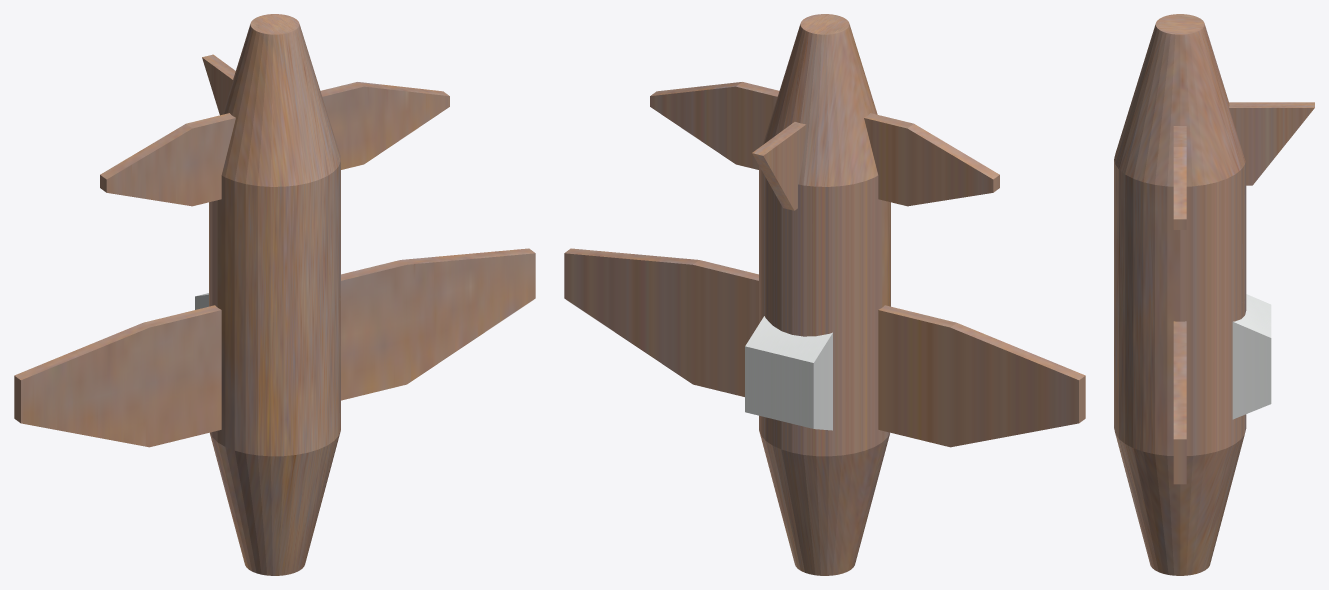
File: jet_copper_obj.obj
3 views of the same model, side by side, from view 1: azimuth 30°, elevation 25°; view 2: azimuth 150°, elevation 25°; view 3: azimuth 270°, elevation 25° (orthographic).
Parts seen in each view (by area): view 1: fuselage_Cylinder; view 2: fuselage_Cylinder; view 3: fuselage_Cylinder.
Part boxes in pixels (x1=…): fuselage_Cylinder: x1=14, y1=14, x2=535, y2=575; fuselage_Cylinder: x1=564, y1=14, x2=1085, y2=575; fuselage_Cylinder: x1=1114, y1=14, x2=1314, y2=575.
Size of the model in its own units: 9 by 9 by 3.04.
